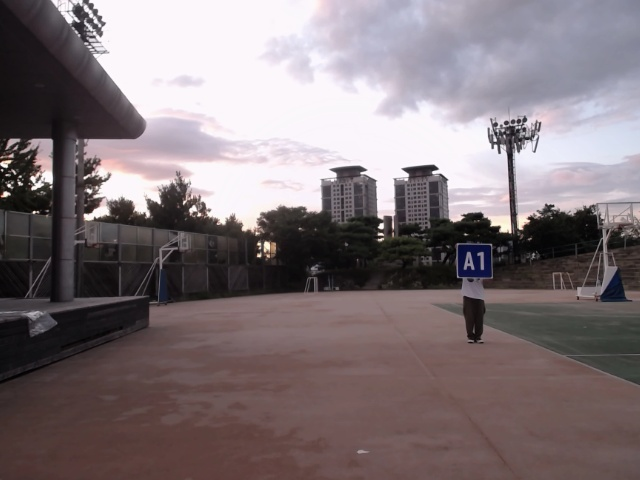delivery_a1: (456, 244, 493, 278)
